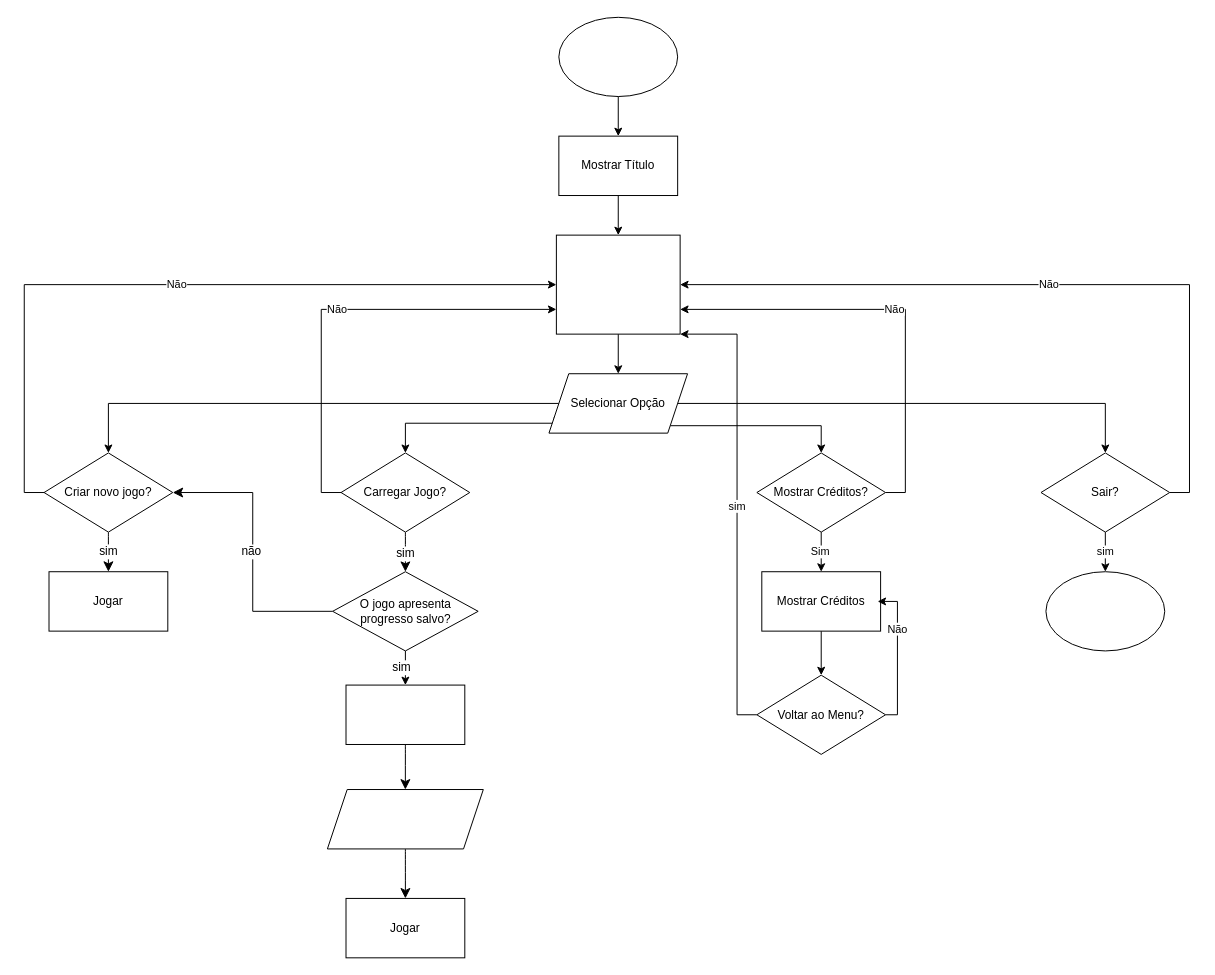
The diagram is 1215 pixels wide and 975 high, and some of its shapes have lost their labels. The centre of each missing label's shape, as x and y in pixels:
"Fim" belongs at pixel 1105 611.
"Inicio" belongs at pixel 618 56.
"Mostrar Opções: New Game Load Game Credits Exit" belongs at pixel 617 284.
"Mostrar todos os progressos salvos." belongs at pixel 405 714.
"Selecionar Progresso" belongs at pixel 404 819.
